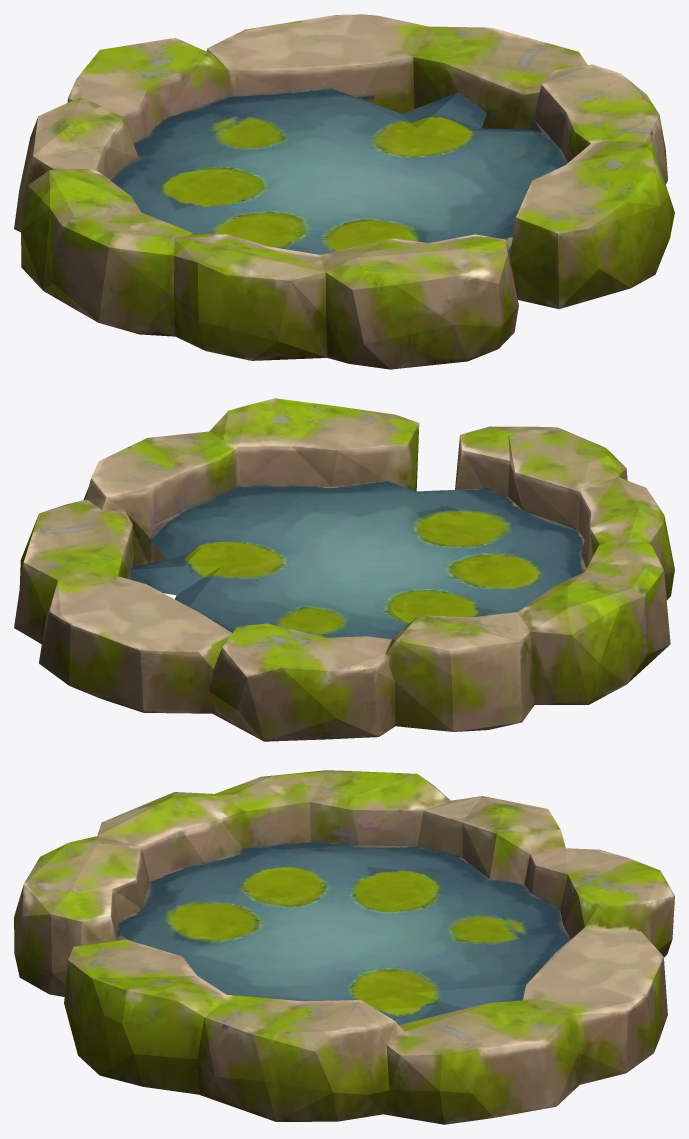
Rendered from spirit-pool.glb.
3 views of the same model, one above another, from view 1: azimuth 30°, elevation 25°; view 2: azimuth 150°, elevation 25°; view 3: azimuth 270°, elevation 25° (orthographic). The views are drawn at different scales.
Visible parts, largest first — view 1: spirit-pool; view 2: spirit-pool; view 3: spirit-pool.
Part boxes in pixels (<box>): spirit-pool: <box>14,14,674,369</box>; spirit-pool: <box>14,398,674,741</box>; spirit-pool: <box>14,770,674,1124</box>.
Bounding box in the file's own units: 2.51 × 0.3952 × 2.48.
1 material, 1 textured.
